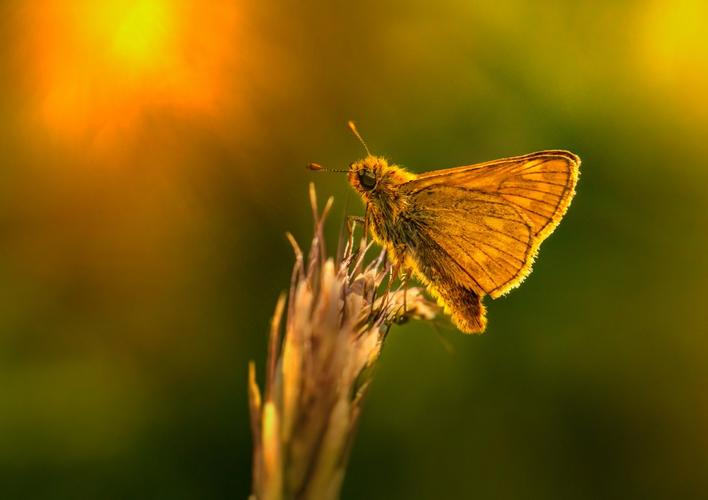Hesperiidae: (306, 119, 585, 347)
